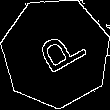P_SW: (25, 25, 86, 81)
